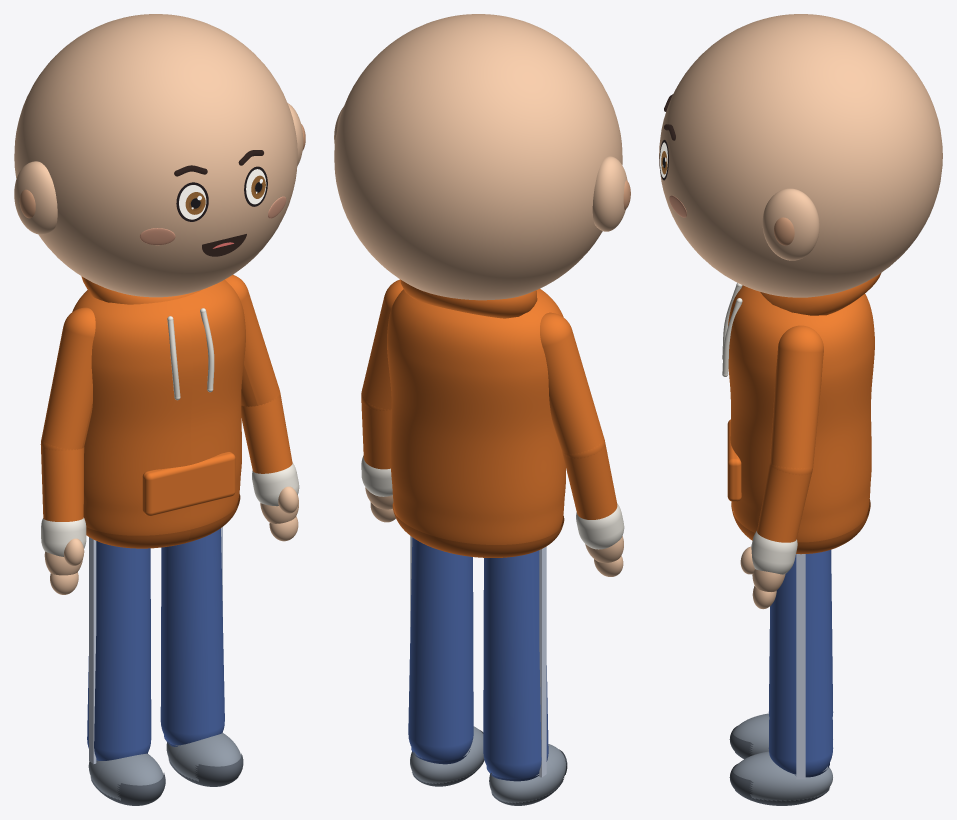
Rendered from hoofdpersonage_pyjama.glb.
3 views of the same model, side by side, from view 1: azimuth 30°, elevation 25°; view 2: azimuth 150°, elevation 25°; view 3: azimuth 270°, elevation 25° (orthographic).
Parts seen in each view (by area): view 1: hoofdpersonage_pyjama_hoofd, hoofdpersonage_pyjama_romp, hoofdpersonage_pyjama_been_L, hoofdpersonage_pyjama_been_R, hoofdpersonage_pyjama_bovenarm_R, hoofdpersonage_pyjama_buidelzak, hoofdpersonage_pyjama_onderarm_R, hoofdpersonage_pyjama_onderarm_L, hoofdpersonage_pyjama_bovenarm_L, hoofdpersonage_pyjama_oor_R, hoofdpersonage_pyjama_schoen_R, hoofdpersonage_pyjama_schoen_L (+9 smaller); view 2: hoofdpersonage_pyjama_hoofd, hoofdpersonage_pyjama_romp, hoofdpersonage_pyjama_been_L, hoofdpersonage_pyjama_been_R, hoofdpersonage_pyjama_bovenarm_R, hoofdpersonage_pyjama_onderarm_R, hoofdpersonage_pyjama_bovenarm_L, hoofdpersonage_pyjama_oor_R, hoofdpersonage_pyjama_capuchon, hoofdpersonage_pyjama_romp_boord, hoofdpersonage_pyjama_schoen_R, hoofdpersonage_pyjama_schoen_L (+5 smaller); view 3: hoofdpersonage_pyjama_hoofd, hoofdpersonage_pyjama_romp, hoofdpersonage_pyjama_been_L, hoofdpersonage_pyjama_bovenarm_L, hoofdpersonage_pyjama_onderarm_L, hoofdpersonage_pyjama_oor_L, hoofdpersonage_pyjama_schoen_L, hoofdpersonage_pyjama_broekstreep_L, hoofdpersonage_pyjama_capuchon, hoofdpersonage_pyjama_manchet_L, hoofdpersonage_pyjama_schoen_R, hoofdpersonage_pyjama_romp_boord (+2 smaller).
Part boxes in pixels (x1,y1,x2,y2): hoofdpersonage_pyjama_hoofd: (14,14,297,297); hoofdpersonage_pyjama_romp: (72,280,245,535); hoofdpersonage_pyjama_been_L: (160,528,224,745); hoofdpersonage_pyjama_been_R: (87,541,151,760); hoofdpersonage_pyjama_bovenarm_R: (41,307,95,450); hoofdpersonage_pyjama_buidelzak: (142,451,235,516); hoofdpersonage_pyjama_onderarm_R: (41,443,84,521); hoofdpersonage_pyjama_onderarm_L: (241,393,292,473); hoofdpersonage_pyjama_bovenarm_L: (225,275,279,406); hoofdpersonage_pyjama_oor_R: (14,161,57,234); hoofdpersonage_pyjama_schoen_R: (88,753,163,800); hoofdpersonage_pyjama_schoen_L: (166,732,241,781); hoofdpersonage_pyjama_hoofd: (334,14,622,300); hoofdpersonage_pyjama_romp: (387,288,565,544); hoofdpersonage_pyjama_been_L: (408,537,473,761); hoofdpersonage_pyjama_been_R: (483,550,548,779); hoofdpersonage_pyjama_bovenarm_R: (540,312,604,457); hoofdpersonage_pyjama_onderarm_R: (562,442,617,519); hoofdpersonage_pyjama_bovenarm_L: (361,279,403,409); hoofdpersonage_pyjama_oor_R: (592,156,627,231); hoofdpersonage_pyjama_capuchon: (400,280,537,318); hoofdpersonage_pyjama_romp_boord: (392,502,564,557); hoofdpersonage_pyjama_schoen_R: (489,744,566,803); hoofdpersonage_pyjama_schoen_L: (410,726,483,783); hoofdpersonage_pyjama_hoofd: (659,14,942,297); hoofdpersonage_pyjama_romp: (728,285,874,542); hoofdpersonage_pyjama_been_L: (768,550,833,775); hoofdpersonage_pyjama_bovenarm_L: (770,325,823,474); hoofdpersonage_pyjama_onderarm_L: (757,463,812,542); hoofdpersonage_pyjama_oor_L: (762,188,819,260); hoofdpersonage_pyjama_schoen_L: (732,751,832,801); hoofdpersonage_pyjama_broekstreep_L: (796,554,805,779); hoofdpersonage_pyjama_capuchon: (760,273,881,315); hoofdpersonage_pyjama_manchet_L: (751,531,797,574); hoofdpersonage_pyjama_schoen_R: (732,713,769,756); hoofdpersonage_pyjama_romp_boord: (731,499,870,554).
Size of the model in its own units: 0.6887 by 1.76 by 0.6.
